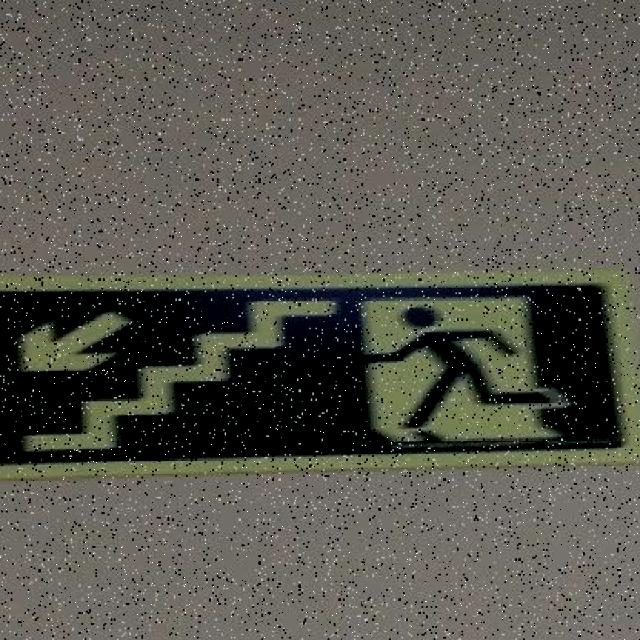emergency_exit: (1, 280, 626, 473)
